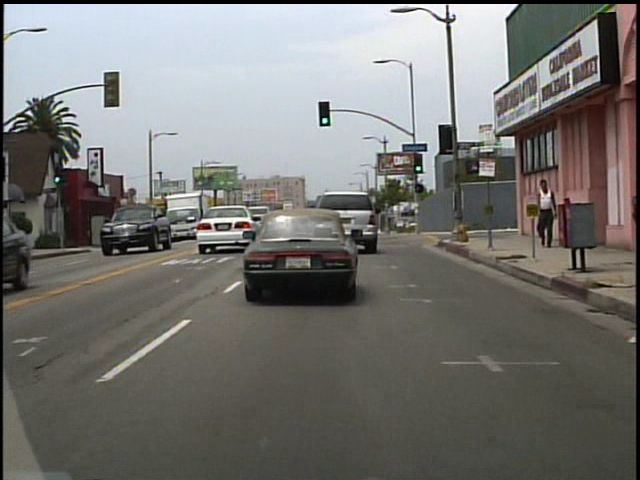person: (534, 175, 563, 251)
